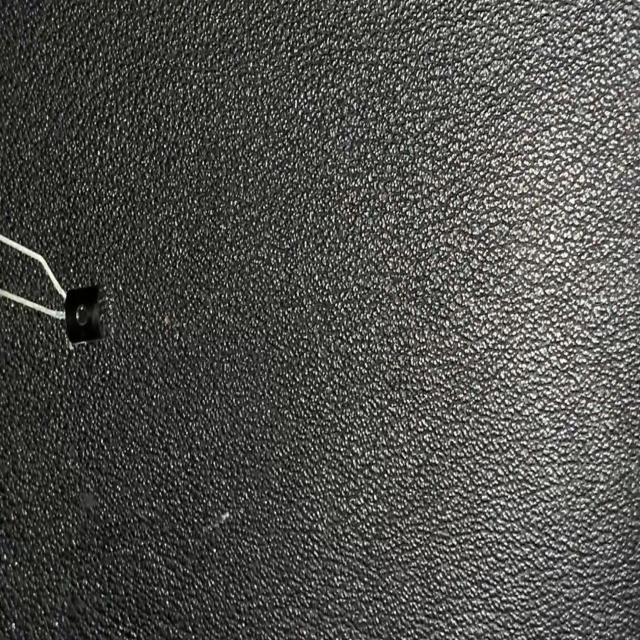missing-leg: (0, 230, 107, 346)
